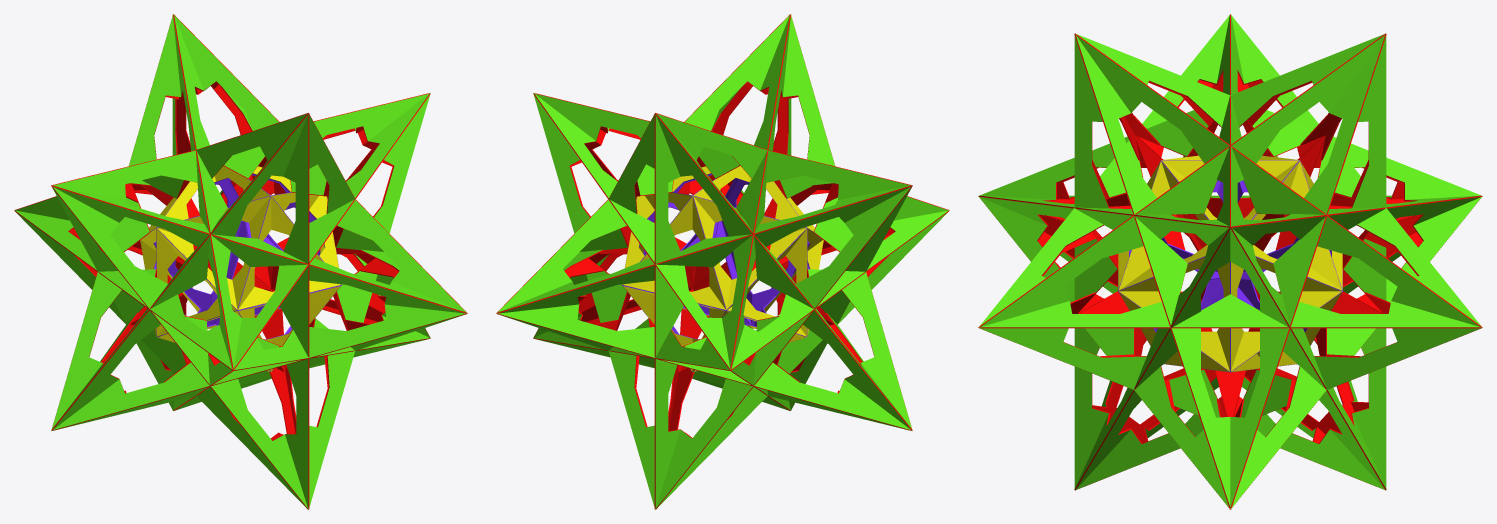
The model's file is GreatIcosahedronS3.glb.
The picture shows the model from 3 angles, left to right: view 1: azimuth 30°, elevation 25°; view 2: azimuth 150°, elevation 25°; view 3: azimuth 270°, elevation 25°; orthographic projection. The views are drawn at different scales.
Visible parts, largest first — view 1: Mesh_0001_1, Mesh_0001, Mesh_0004_1, Mesh_0004; view 2: Mesh_0001_1, Mesh_0001, Mesh_0004_1, Mesh_0004; view 3: Mesh_0001_1, Mesh_0001, Mesh_0004_1, Mesh_0004.
Part boxes in pixels (x1,y1,x2,y2): Mesh_0001_1: (14, 14, 466, 509); Mesh_0001: (14, 14, 467, 509); Mesh_0004_1: (140, 166, 341, 372); Mesh_0004: (150, 173, 341, 371); Mesh_0001_1: (497, 14, 949, 509); Mesh_0001: (496, 14, 949, 509); Mesh_0004_1: (622, 166, 823, 372); Mesh_0004: (622, 173, 813, 371); Mesh_0001_1: (978, 14, 1482, 509); Mesh_0001: (978, 14, 1482, 509); Mesh_0004_1: (1118, 155, 1342, 371); Mesh_0004: (1118, 160, 1342, 372).
Bounding box in the file's own units: 7.5 × 7.5 × 7.5.
